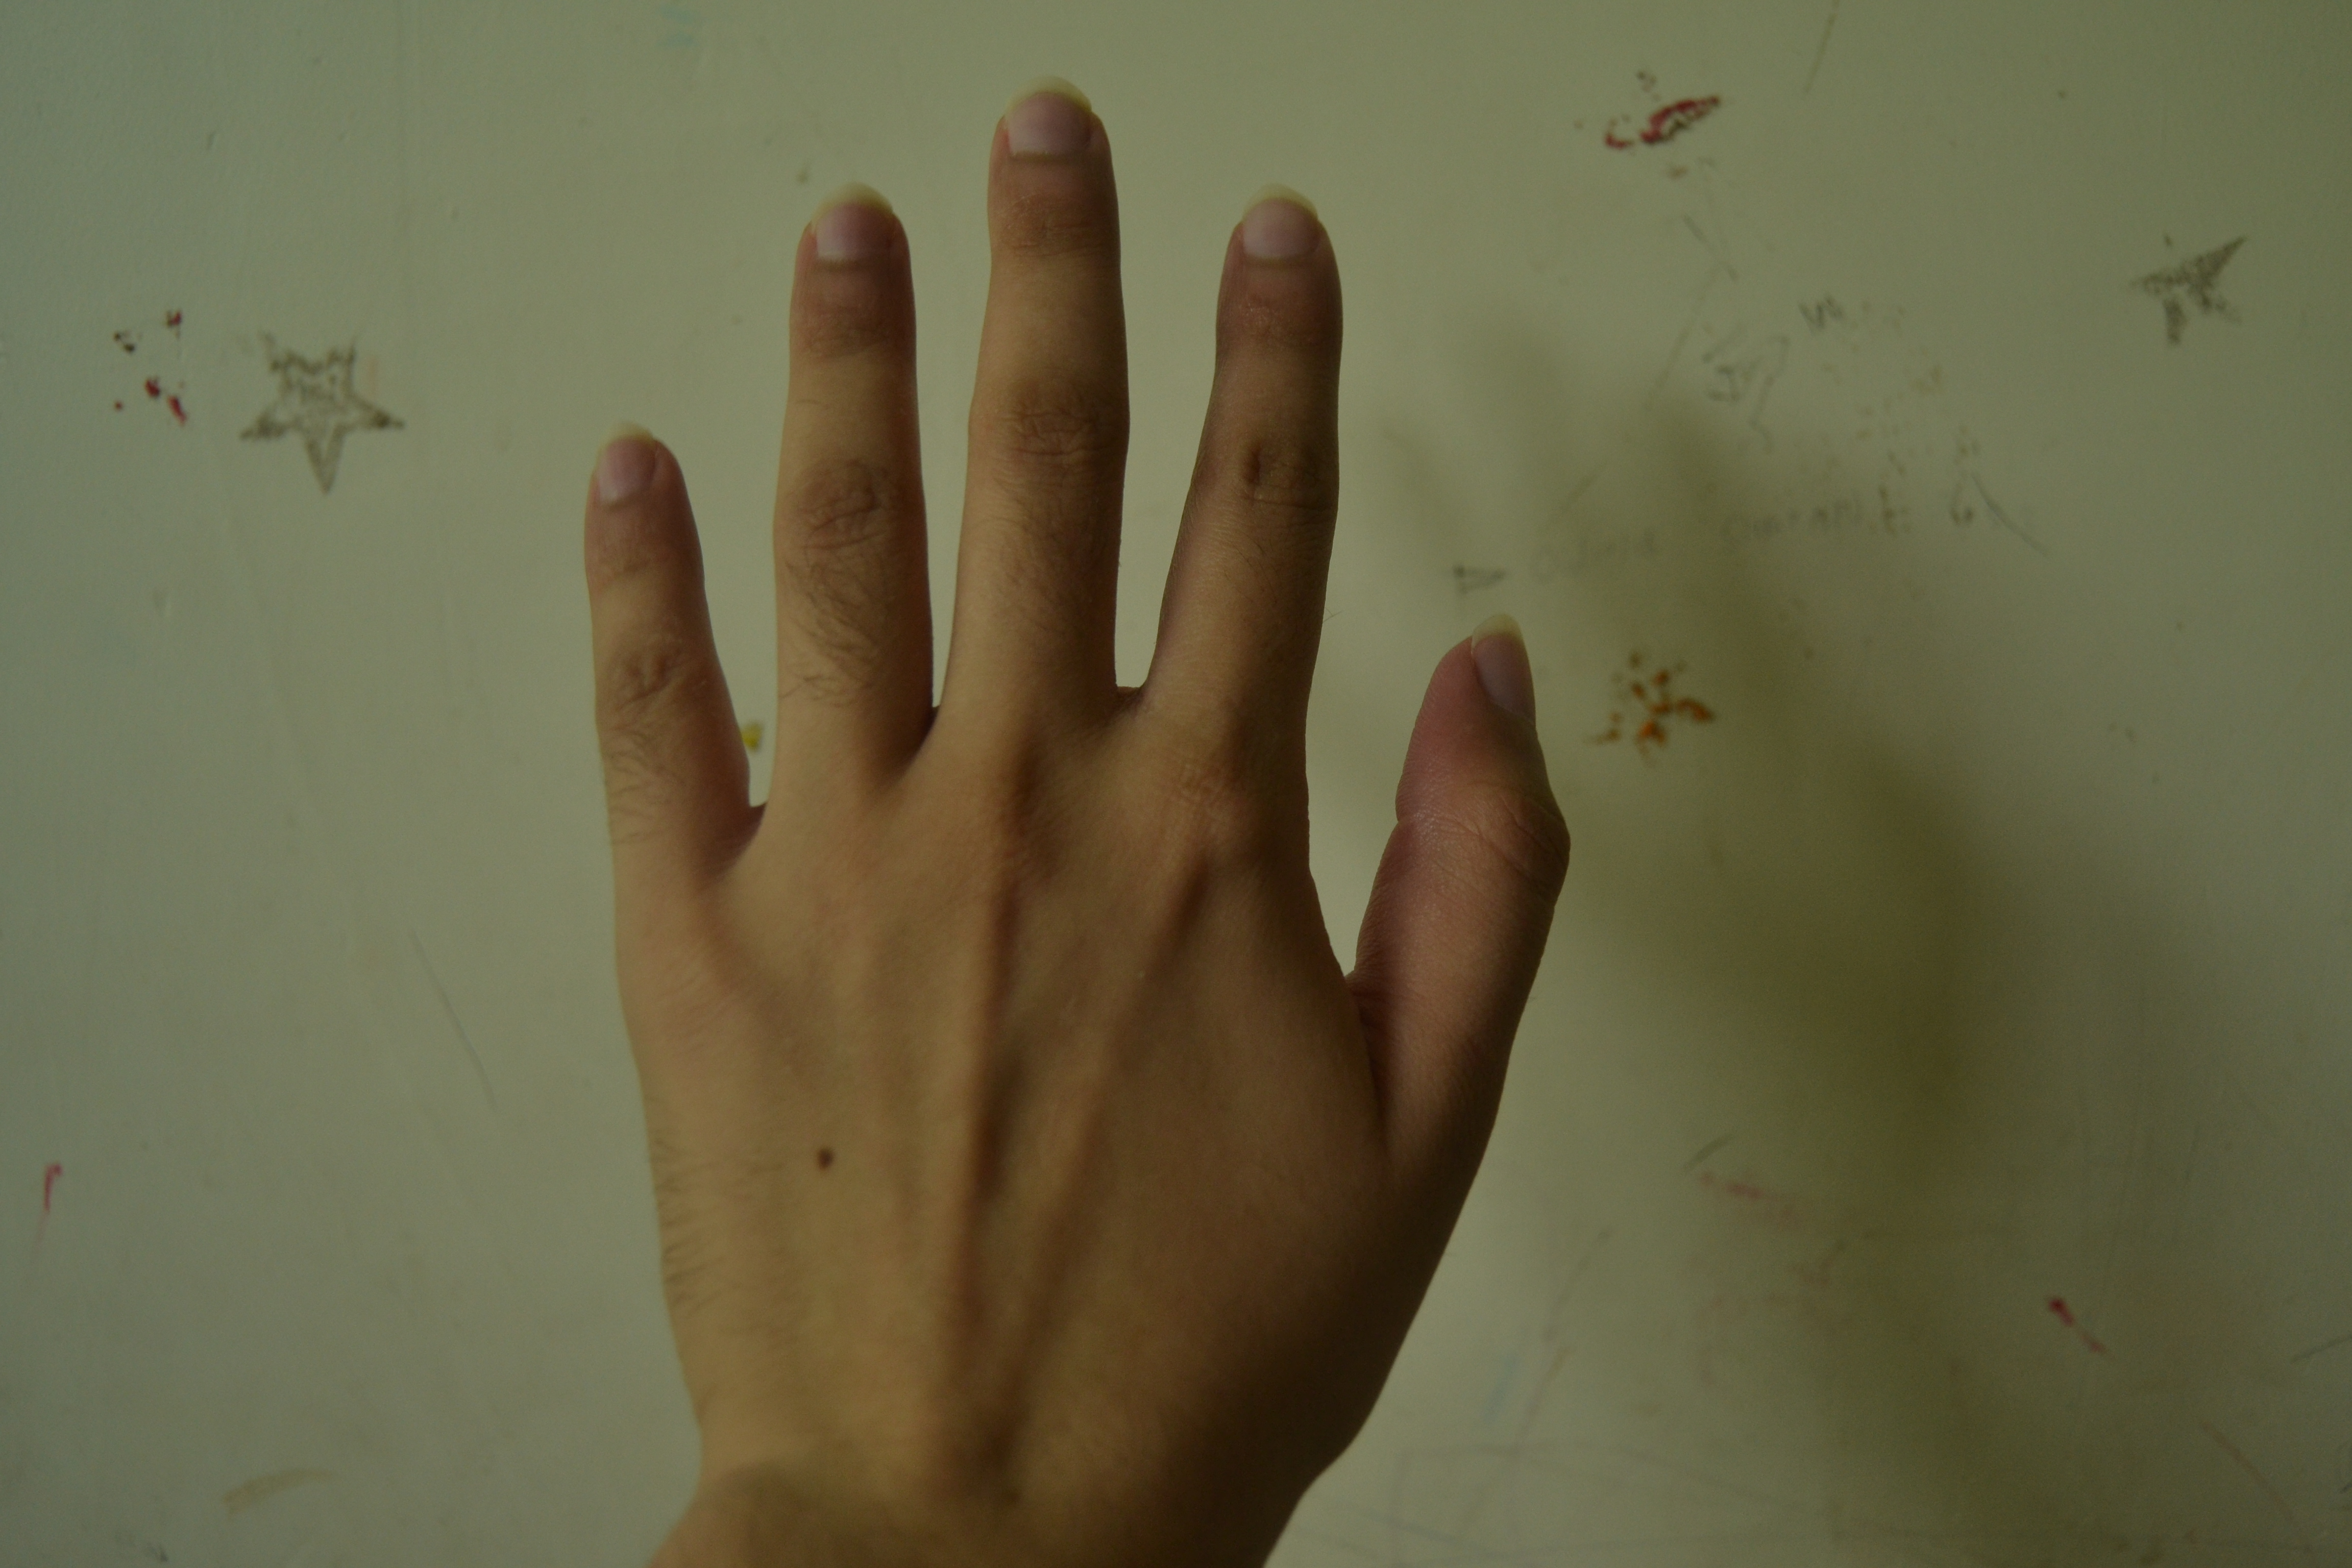move: (528, 66, 1601, 1505)
